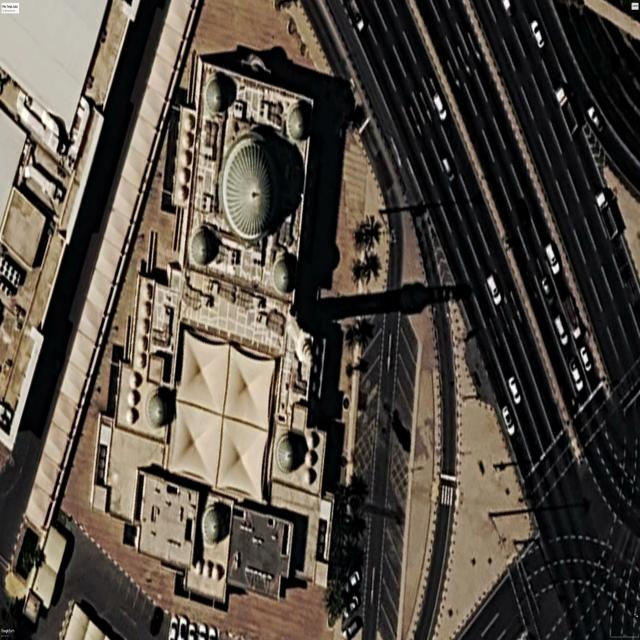mosque: (92, 58, 332, 603)
